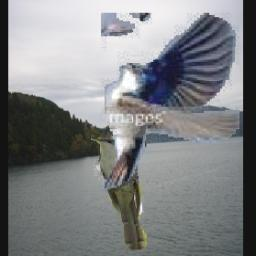Cuckoo: (90, 135, 146, 253)
Swallow: (100, 14, 239, 190)
